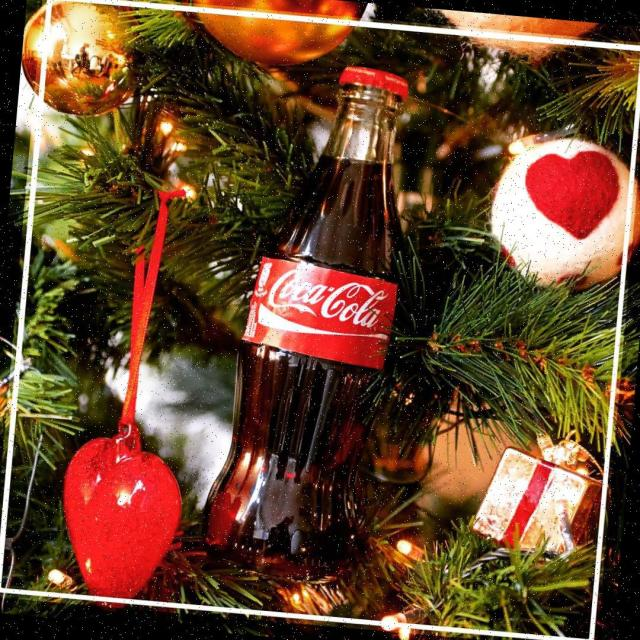coca-cola: (205, 54, 420, 591)
